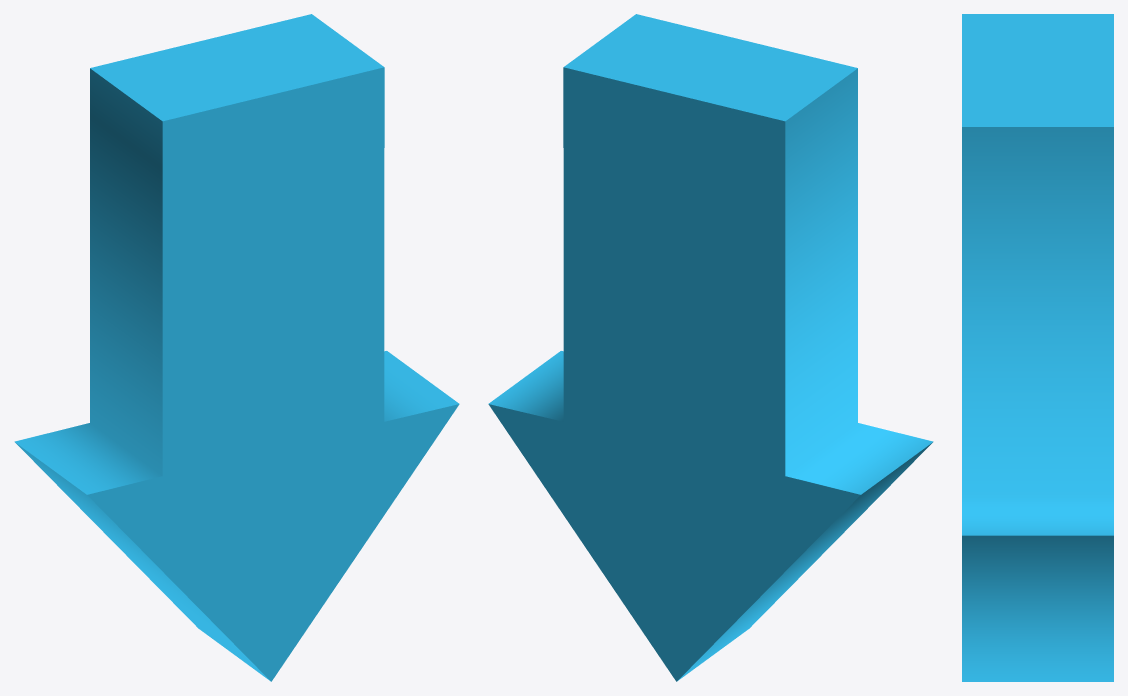
File: arrow-v1.glb
The picture shows the model from 3 angles, left to right: view 1: azimuth 30°, elevation 25°; view 2: azimuth 150°, elevation 25°; view 3: azimuth 270°, elevation 25°; orthographic projection. The views are drawn at different scales.
Visible parts, largest first — view 1: arrow; view 2: arrow; view 3: arrow.
Part boxes in pixels (<box>): arrow: <box>14,14,459,681</box>; arrow: <box>488,14,933,681</box>; arrow: <box>962,14,1113,681</box>.
Size of the model in its own units: 0.5272 by 0.7936 by 0.1783.
